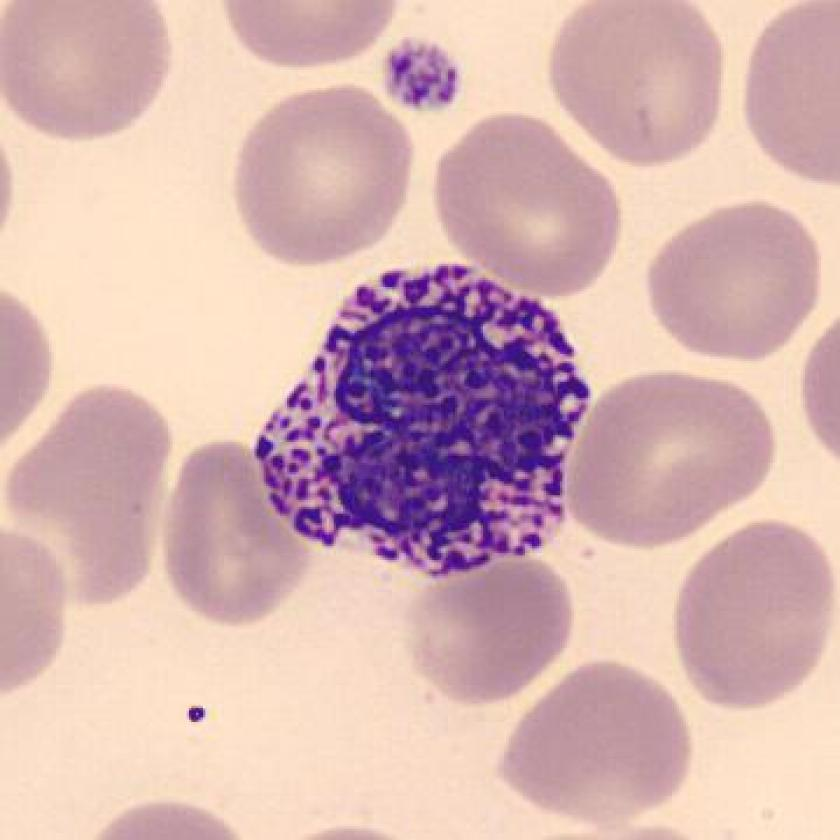basophil: (248, 253, 594, 584)
